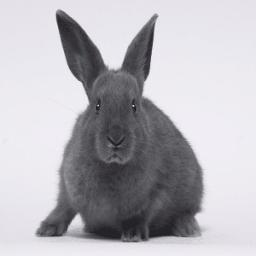rabbit: (36, 9, 201, 241)
